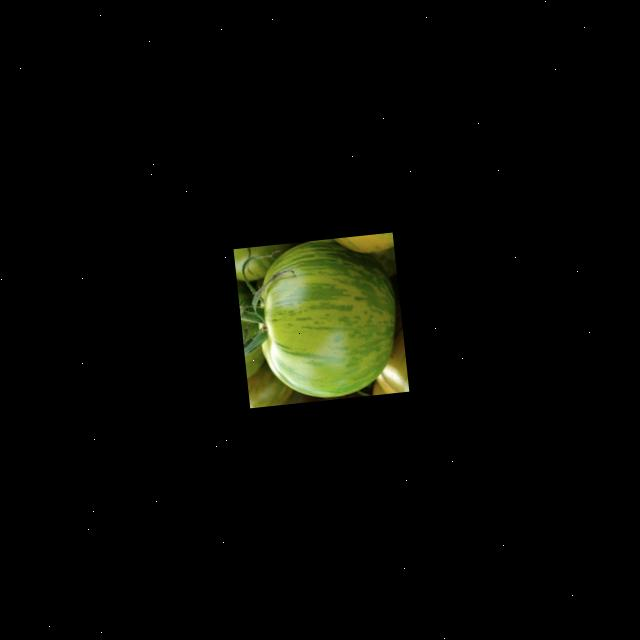tomato: (243, 236, 401, 402)
